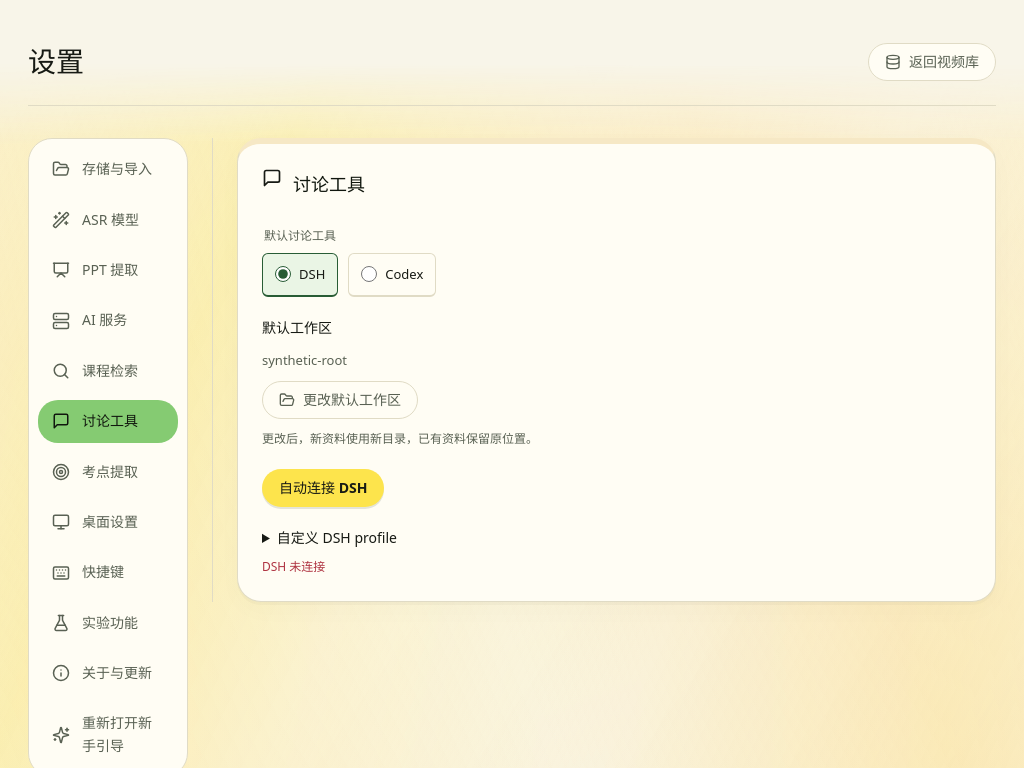
Test case: reads a saved directory while DSH is offline and preserves it on connection failure
expect the element with class "discussion-settings-section" shows "synthetic-root": met, box [262,351,347,369]
Click the button "更改默认工作区".
click(340, 400)  # box [262,381,418,419]
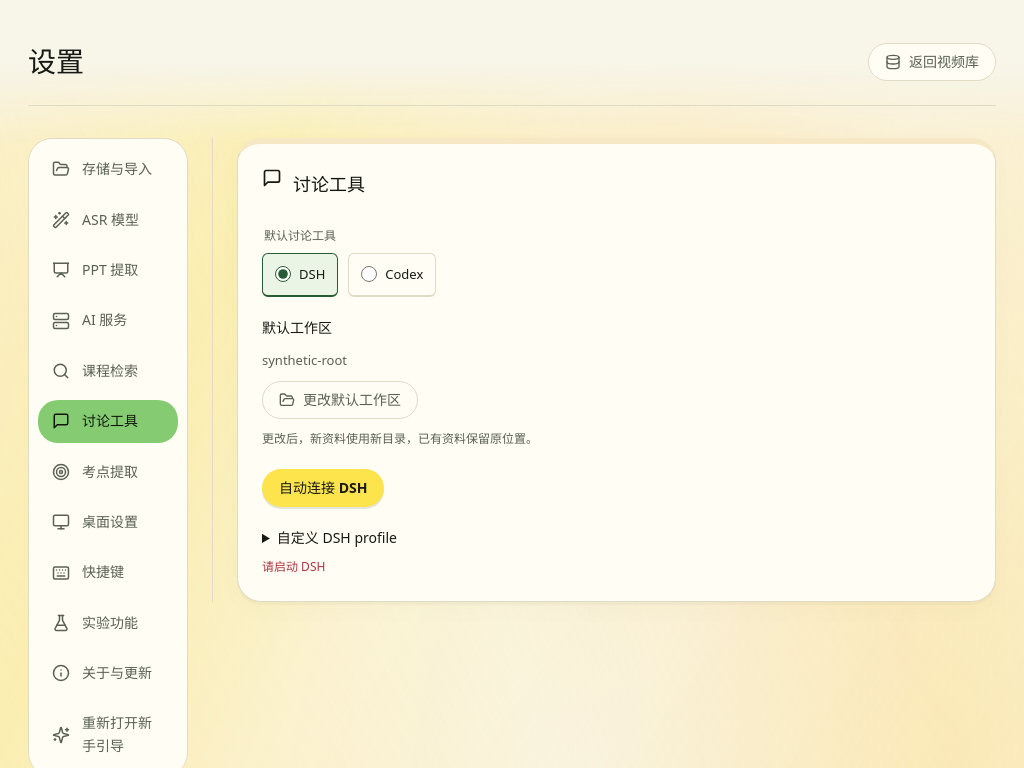
expect the element with class "discussion-settings-section" shows "synthetic-root": met, box [262,351,347,369]
expect the element with class "discussion-settings-section" shows "请启动 DSH": met, box [262,558,325,575]
